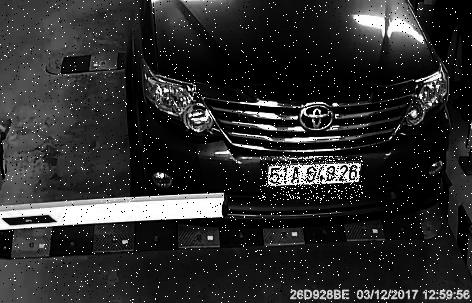License-plate: (261, 158, 364, 203)
